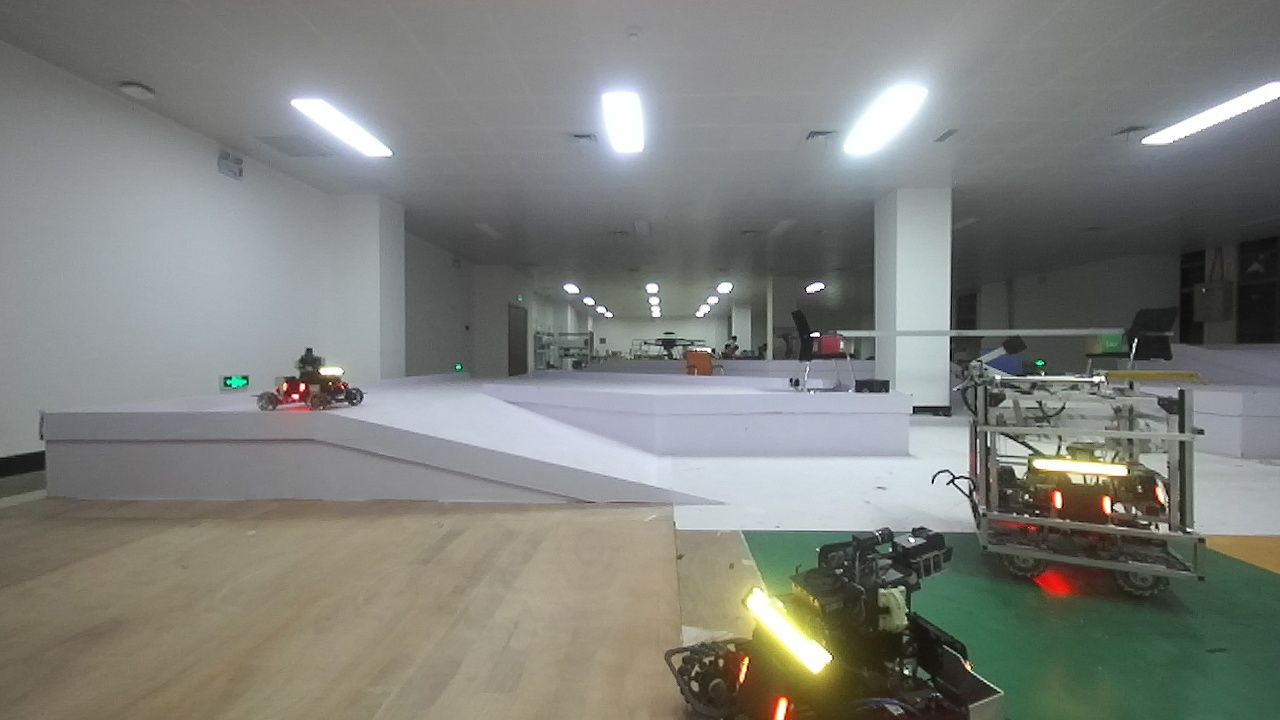car: (952, 344, 1229, 600), (661, 530, 1013, 720), (252, 339, 371, 416)
